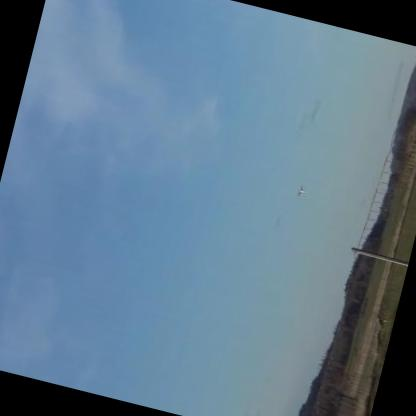plane: (296, 185, 307, 199)
